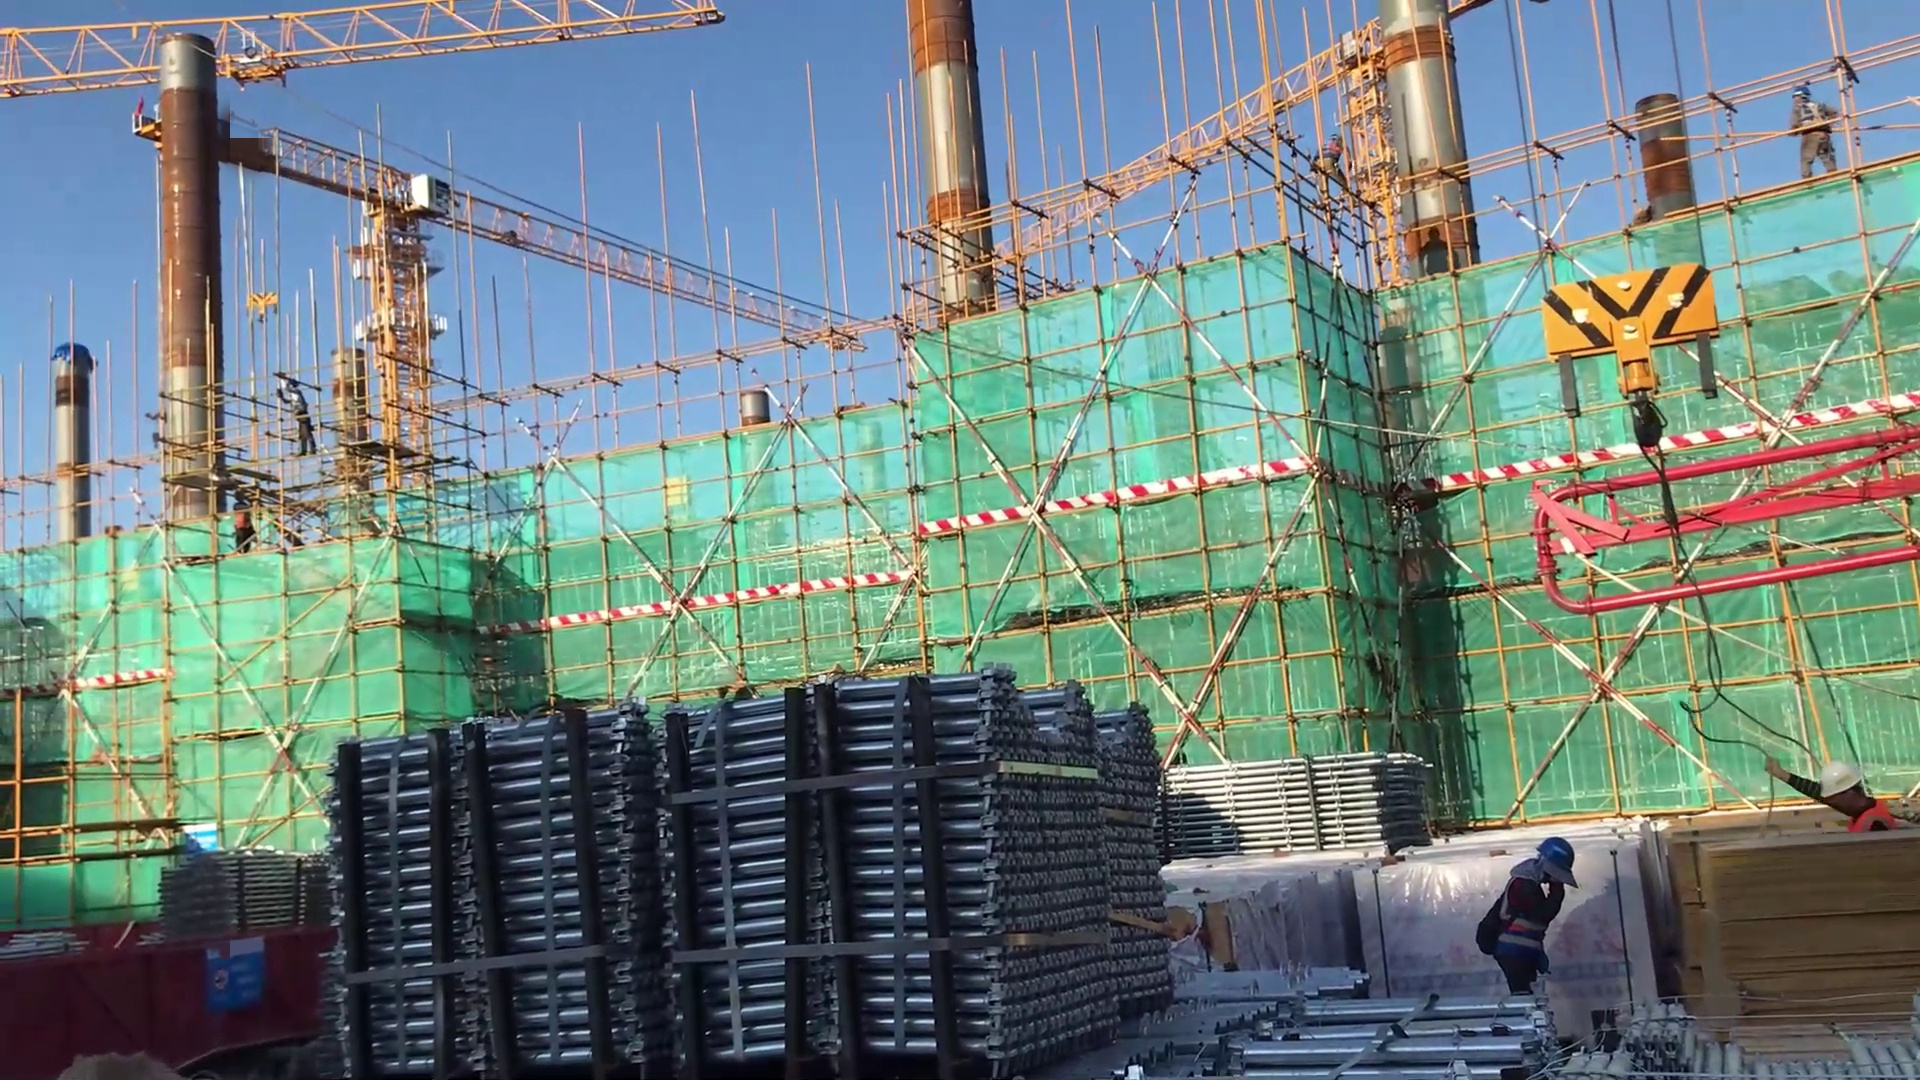board: (1661, 819, 1920, 1032)
fence: (1, 921, 312, 1080)
helmet: (1520, 840, 1586, 892), (1817, 761, 1877, 813), (1787, 85, 1820, 110)
hook: (1537, 246, 1763, 545), (223, 287, 295, 344)
person: (1473, 831, 1583, 1021), (1763, 757, 1912, 842), (1781, 75, 1852, 187), (271, 372, 326, 456), (1307, 125, 1362, 206), (226, 483, 266, 567)
scaffold: (295, 659, 1183, 1066), (1163, 957, 1551, 1080), (1151, 749, 1441, 881), (1547, 994, 1920, 1078), (130, 834, 315, 955)
slogan: (195, 928, 268, 1013), (173, 823, 227, 864)
vest: (1487, 864, 1553, 973), (1843, 802, 1899, 830), (1796, 101, 1834, 134)
